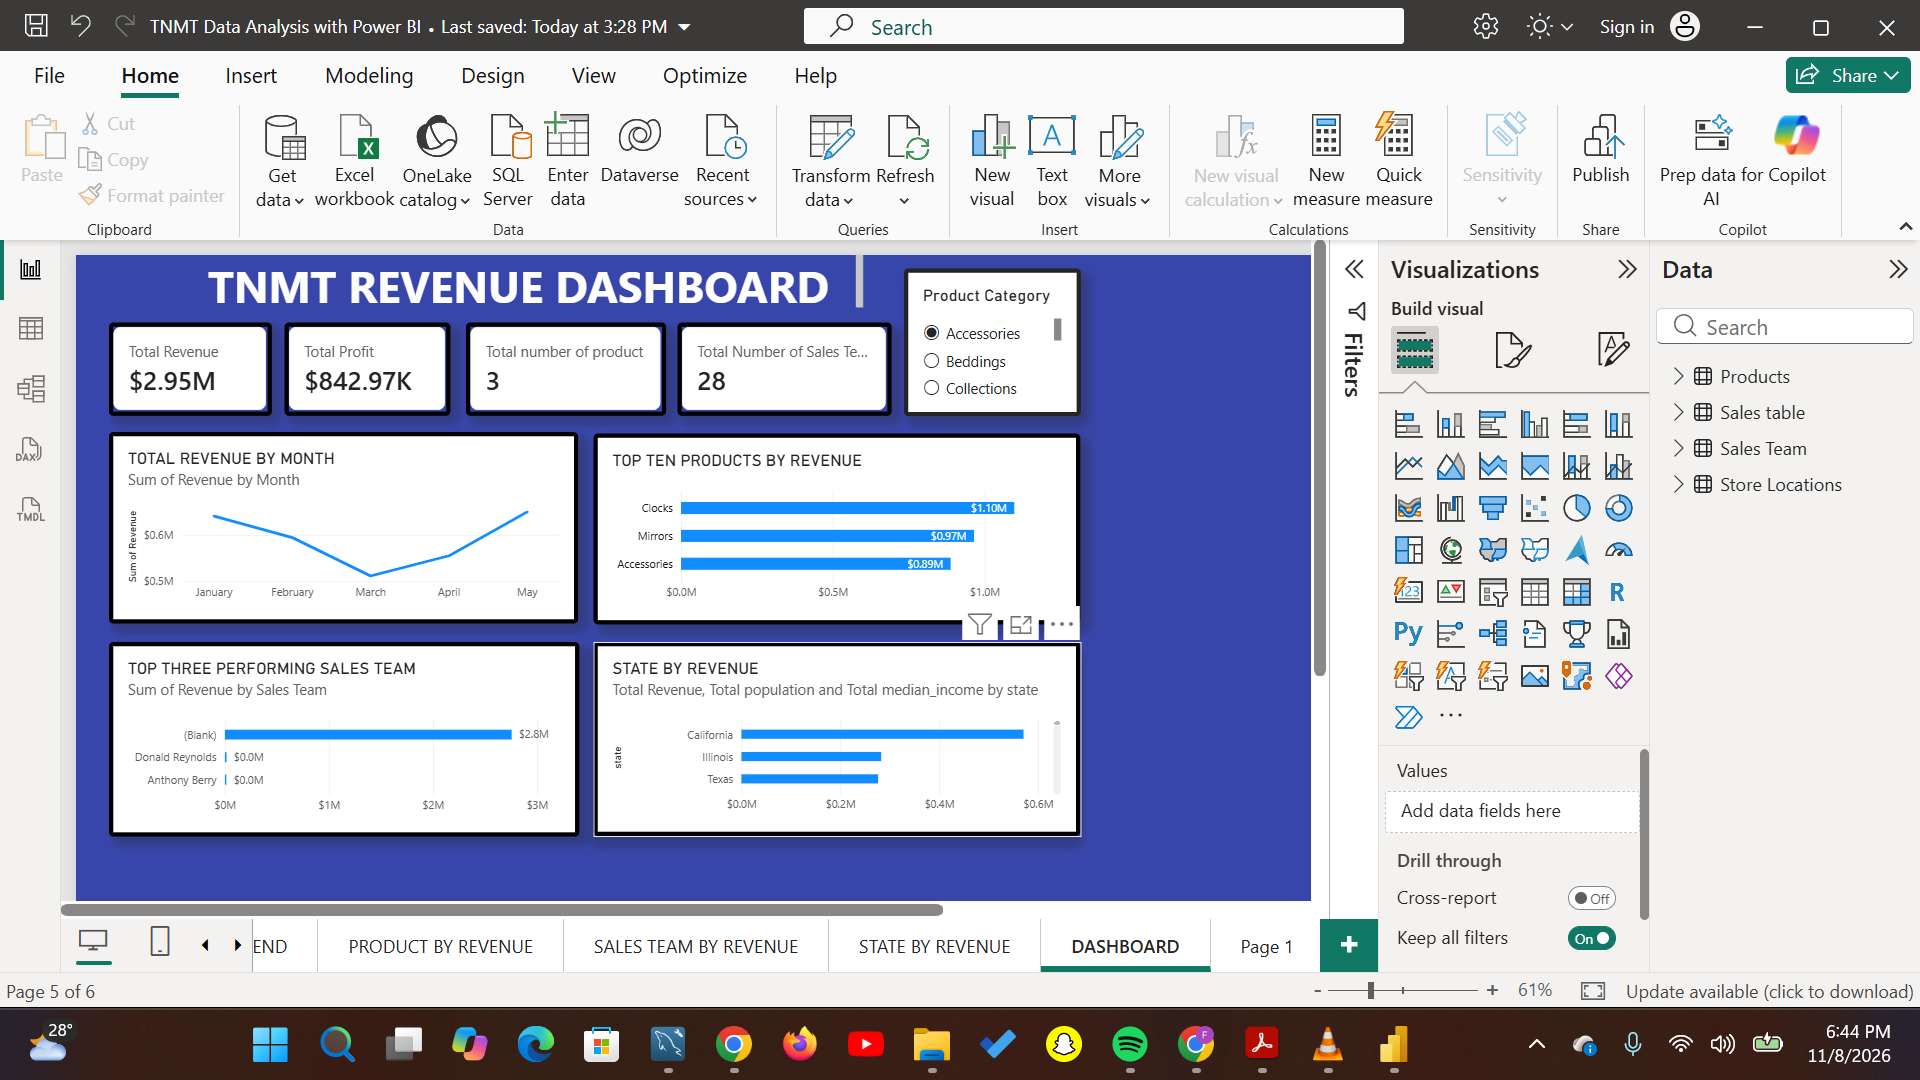

The page's visual inventory and layout, read from the dashboard file:
{"tool":"powerbi","page":{"name":"DASHBOARD","canvas":[1920,1080],"ordinal":4},"visuals":[{"type":"cardVisual","fields":{"Data":["Sales table.Total Revenue"]},"box":[35.6,74.6,178,101.7],"z":0},{"type":"cardVisual","fields":{"Data":["Sales table.Total Profit"]},"box":[227.1,74.6,181.4,101.7],"z":1000},{"type":"cardVisual","fields":{"Data":["Sales table.Total number of product"]},"box":[425.4,74.6,218.6,101.7],"z":2000},{"type":"cardVisual","fields":{"Data":["Sales table.Total Number of Sales Team"]},"box":[657.6,74.6,233.9,101.7],"z":3000},{"type":"lineChart","title":"TOTAL REVENUE BY MONTH","fields":{"Category":["Sales table.Sales Date.Variation.Date Hierarchy.Month"],"Y":["Sum(Sales table.Revenue)"]},"box":[35.6,193.2,512.7,209.5],"z":4000},{"type":"barChart","title":"TOP TEN PRODUCTS BY REVENUE ","fields":{"Category":["Products.Product Name"],"Y":["Sum(Sales table.Revenue)"]},"box":[566.1,194.9,532.2,208.5],"z":5000},{"type":"barChart","title":"TOP THREE PERFORMING SALES TEAM","fields":{"Category":["Sales Team.Sales Team"],"Y":["Sum(Sales table.Revenue)"]},"box":[35.6,423.7,514.3,212.7],"z":6000},{"type":"barChart","title":"STATE BY REVENUE","fields":{"Category":["Store Locations.state"],"Y":["Sum(Sales table.Revenue)"]},"box":[566.1,423.7,532.2,211.9],"z":7000},{"type":"textbox","box":[144.1,0,715.8,60.5],"z":7001},{"type":"listSlicer","fields":{"Values":["Products.Product Category"]},"box":[905.1,15.3,193.2,161],"z":7002}]}

Visuals, with their boxes on the page's 1920x1080 design canvas (x1, y1, x2, y2). These are canvas units, not pixel positions in the 1920x1080 screenshot, which may show the page scaled, cropped or inside an application window:
cardVisual - Sales table.Total Revenue: 36 75 214 176
cardVisual - Sales table.Total Profit: 227 75 408 176
cardVisual - Sales table.Total number of product: 425 75 644 176
cardVisual - Sales table.Total Number of Sales Team: 658 75 892 176
"TOTAL REVENUE BY MONTH" lineChart: 36 193 548 403
"TOP TEN PRODUCTS BY REVENUE " barChart: 566 195 1098 403
"TOP THREE PERFORMING SALES TEAM" barChart: 36 424 550 636
"STATE BY REVENUE" barChart: 566 424 1098 636
textbox: 144 0 860 60
listSlicer - Products.Product Category: 905 15 1098 176
